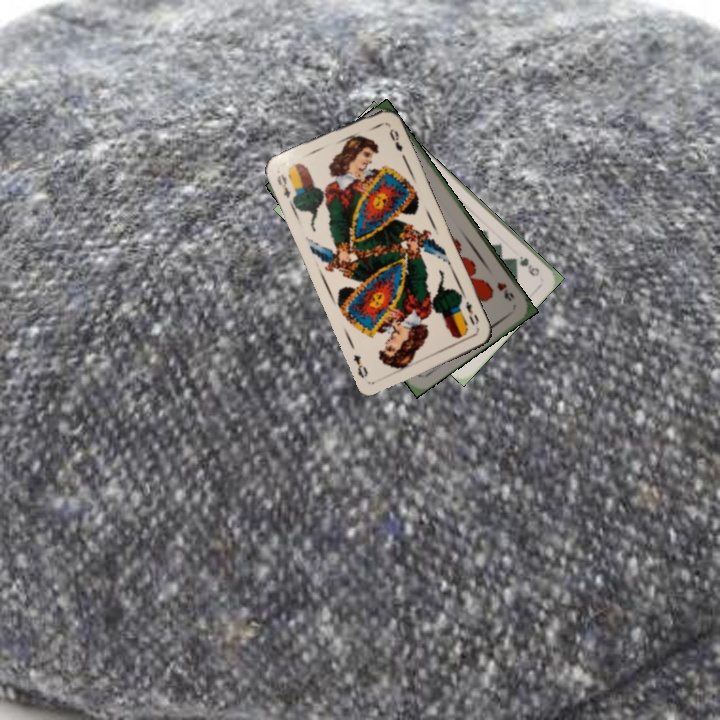EO: (461, 297, 482, 328), (273, 170, 293, 201)
G9: (515, 252, 542, 279)
H9: (493, 278, 517, 304)
